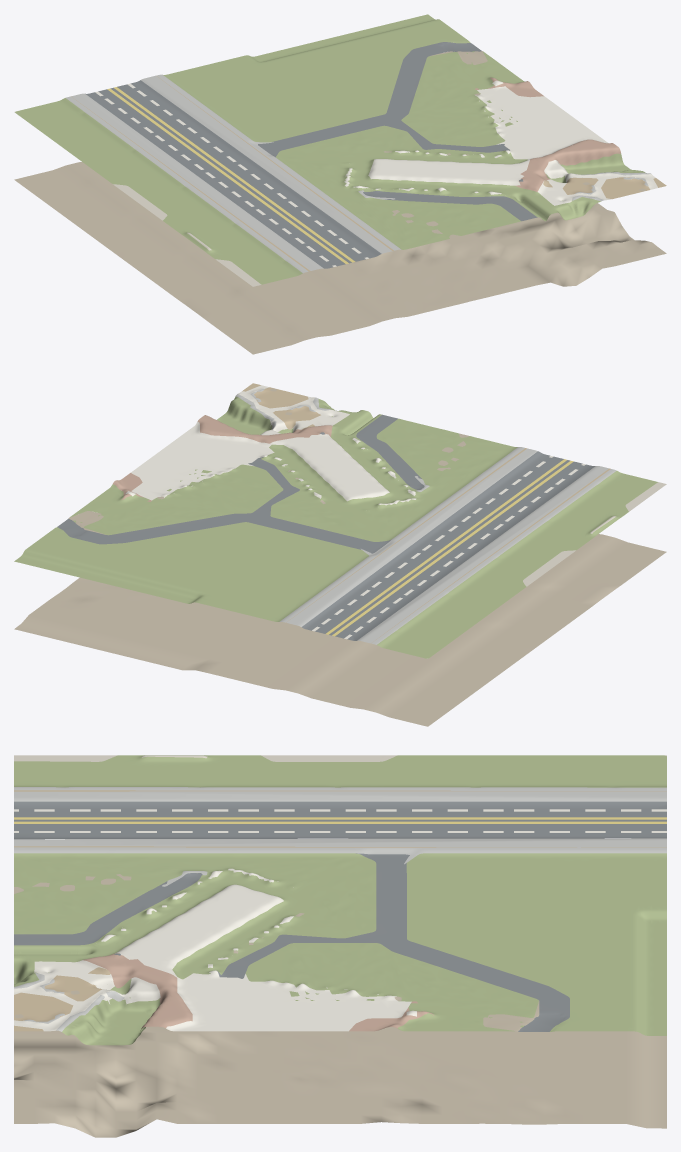
The picture shows the model from 3 angles, top to bottom: view 1: azimuth 30°, elevation 25°; view 2: azimuth 150°, elevation 25°; view 3: azimuth 270°, elevation 25°; orthographic projection. The views are drawn at different scales.
Parts seen in each view (by area): view 1: s_1_-1__grass, s_1_-1__soil, s_1_-1__asphalt, s_1_-1__white_marking, s_1_-1__stone_paving, s_1_-1__brick_paving, s_1_-1__timber_deck, s_1_-1__yellow_marking, s_1_-1__paving; view 2: s_1_-1__grass, s_1_-1__soil, s_1_-1__asphalt, s_1_-1__white_marking, s_1_-1__stone_paving, s_1_-1__timber_deck, s_1_-1__yellow_marking, s_1_-1__brick_paving, s_1_-1__paving; view 3: s_1_-1__grass, s_1_-1__soil, s_1_-1__asphalt, s_1_-1__white_marking, s_1_-1__stone_paving, s_1_-1__timber_deck, s_1_-1__yellow_marking, s_1_-1__brick_paving, s_1_-1__paving.
Boxes of the visible parts, x1,y1,x2,y2 form: s_1_-1__grass: [15, 14, 645, 284]; s_1_-1__soil: [14, 51, 666, 354]; s_1_-1__asphalt: [85, 42, 537, 268]; s_1_-1__white_marking: [95, 80, 657, 266]; s_1_-1__stone_paving: [65, 74, 650, 273]; s_1_-1__brick_paving: [475, 77, 620, 191]; s_1_-1__timber_deck: [71, 76, 666, 271]; s_1_-1__yellow_marking: [107, 87, 355, 263]; s_1_-1__paving: [14, 112, 261, 286]; s_1_-1__grass: [14, 396, 657, 658]; s_1_-1__soil: [14, 388, 666, 726]; s_1_-1__asphalt: [57, 414, 595, 640]; s_1_-1__white_marking: [125, 385, 585, 639]; s_1_-1__stone_paving: [235, 389, 616, 644]; s_1_-1__timber_deck: [242, 383, 610, 642]; s_1_-1__yellow_marking: [326, 459, 573, 636]; s_1_-1__brick_paving: [113, 415, 332, 501]; s_1_-1__paving: [427, 482, 666, 658]; s_1_-1__grass: [14, 755, 666, 1045]; s_1_-1__soil: [14, 873, 666, 1137]; s_1_-1__asphalt: [14, 801, 666, 1031]; s_1_-1__white_marking: [14, 809, 666, 1031]; s_1_-1__stone_paving: [14, 787, 666, 1031]; s_1_-1__timber_deck: [14, 790, 666, 1031]; s_1_-1__yellow_marking: [14, 817, 666, 823]; s_1_-1__brick_paving: [83, 953, 433, 1031]; s_1_-1__paving: [14, 755, 666, 761].
Size of the model in its own units: 128 by 24.28 by 128.
